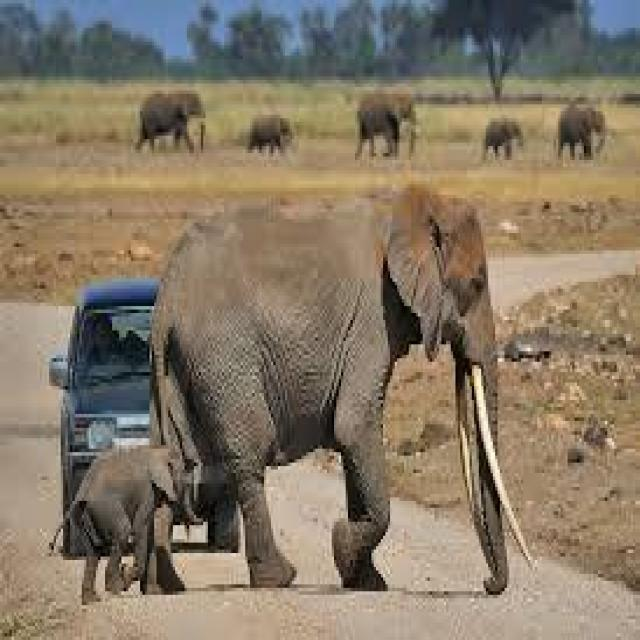Elephant: (149, 178, 507, 592), (60, 442, 198, 598)
